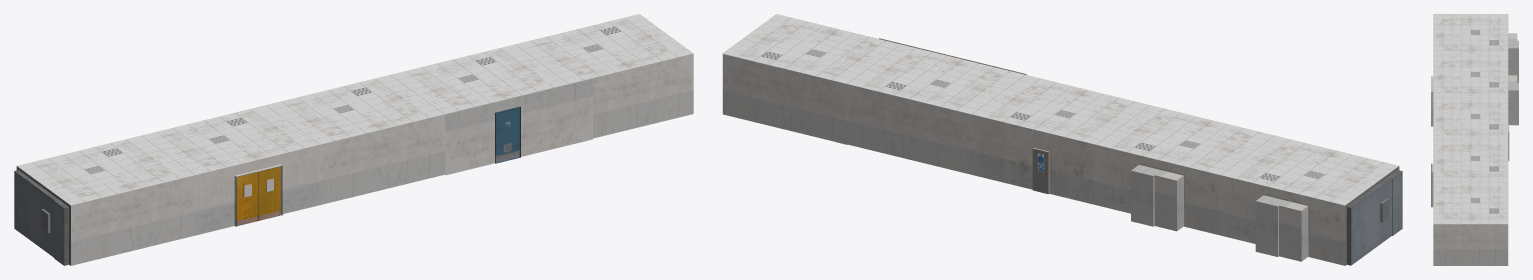
The model's file is hallway .fbx.
3 renders of one model, left to right at view 1: azimuth 30°, elevation 25°; view 2: azimuth 150°, elevation 25°; view 3: azimuth 270°, elevation 25°, orthographic. The views are drawn at different scales.
Parts seen in each view (by area): view 1: object_7, object_7.010, object_7.011, object_3.005, object_3.001, object_3.003, object_3.002, object_3.004, object_7.007, object_8, object_12, object_10 (+2 smaller); view 2: object_13.002, object_13.001, object_7.009, object_7.008, object_11, object_3.001, object_3.002, object_3.005, object_3.003, object_3.004, object_12, object_12.001 (+1 smaller); view 3: object_3.001, object_3.002, object_3.003, object_3.004, object_3.005, object_7.005, object_7.006, object_13.001, object_13.002, object_8, object_1, object_11.
Part boxes in pixels (box(x1,y1,x2,y2)): object_7: box(445, 79, 592, 175); object_7.010: box(71, 175, 195, 265); object_7.011: box(320, 114, 444, 204); object_3.005: box(17, 135, 194, 205); object_3.001: box(515, 14, 693, 83); object_3.003: box(266, 75, 444, 144); object_3.002: box(390, 44, 568, 114); object_3.004: box(141, 105, 319, 174); object_7.007: box(569, 53, 693, 138); object_8: box(195, 145, 319, 235); object_12: box(14, 166, 70, 265); object_10: box(236, 166, 280, 226); object_13.002: box(1220, 175, 1345, 265); object_13.001: box(1096, 145, 1220, 235); object_7.009: box(847, 84, 971, 174); object_7.008: box(723, 54, 847, 144); object_11: box(971, 114, 1095, 204); object_3.001: box(723, 14, 900, 83); object_3.002: box(847, 44, 1025, 114); object_3.005: box(1221, 135, 1398, 205); object_3.003: box(972, 75, 1149, 144); object_3.004: box(1096, 105, 1274, 174); object_12: box(1345, 166, 1402, 265); object_12.001: box(1375, 194, 1392, 247); object_3.001: box(1433, 182, 1508, 224); object_3.002: box(1433, 140, 1508, 182); object_3.003: box(1433, 98, 1508, 139); object_3.004: box(1433, 56, 1508, 97); object_3.005: box(1433, 14, 1508, 55); object_7.005: box(1433, 224, 1507, 265); object_7.006: box(1463, 238, 1482, 265); object_13.001: box(1508, 75, 1518, 125); object_13.002: box(1508, 33, 1518, 82); object_8: box(1431, 76, 1433, 126); object_1: box(1432, 163, 1433, 207); object_11: box(1508, 126, 1509, 160).
Bounding box in the file's own units: 4555 × 420 × 798.
Materials: 14 (13 with a texture image).
